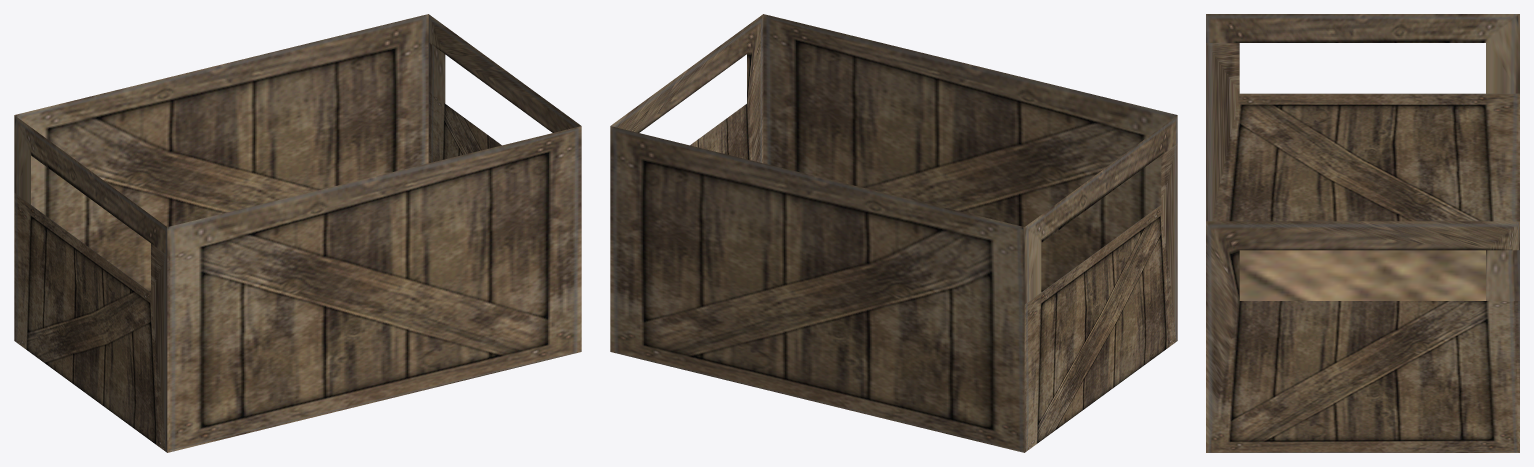
Rendered from crate.obj.
3 renders of one model, left to right at view 1: azimuth 30°, elevation 25°; view 2: azimuth 150°, elevation 25°; view 3: azimuth 270°, elevation 25°, orthographic. The views are drawn at different scales.
Parts seen in each view (by area): view 1: Cube; view 2: Cube; view 3: Cube.
Part boxes in pixels (<box>): Cube: <box>14,14,581,452</box>; Cube: <box>610,14,1177,452</box>; Cube: <box>1206,14,1519,452</box>.
Size of the model in its own units: 0.1114 by 0.058 by 0.0713.
